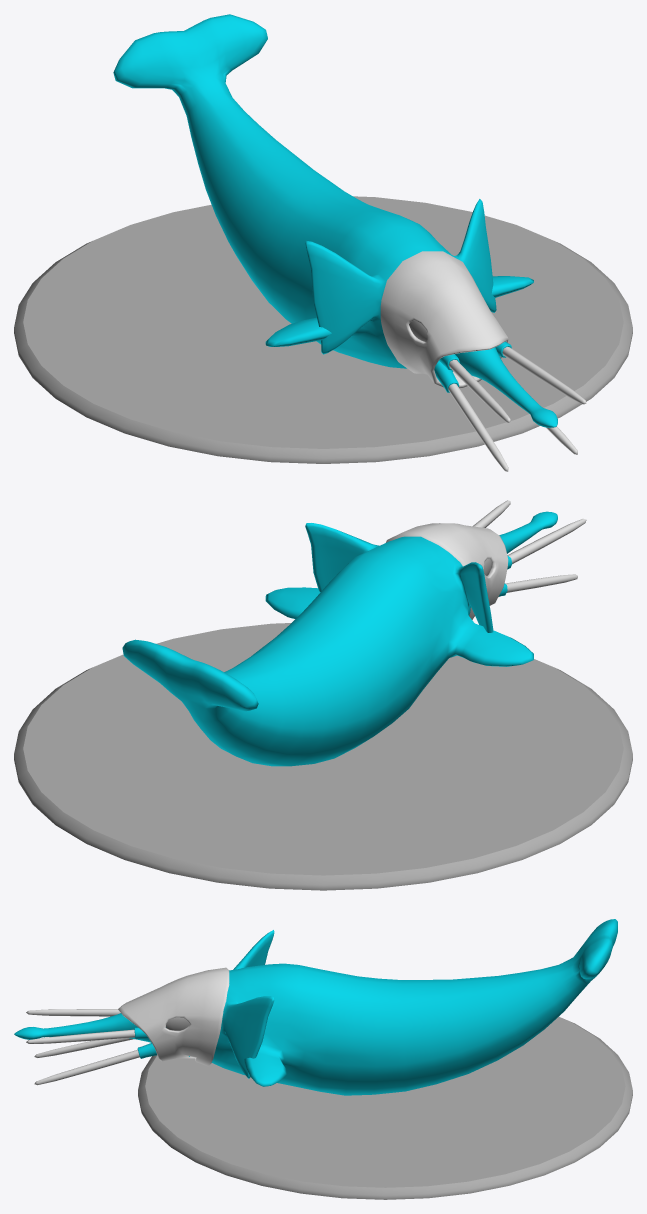
The model's file is A1_Figurine.fbx.
3 views of the same model, one above another, from view 1: azimuth 30°, elevation 25°; view 2: azimuth 150°, elevation 25°; view 3: azimuth 270°, elevation 25° (orthographic). The views are drawn at different scales.
Visible parts, largest first — view 1: A1_geo; view 2: A1_geo; view 3: A1_geo.
Part boxes in pixels (<box>): A1_geo: <box>14,14,632,471</box>; A1_geo: <box>14,500,632,890</box>; A1_geo: <box>14,919,632,1199</box>.
Bounding box in the file's own units: 199 × 73.55 × 249.
